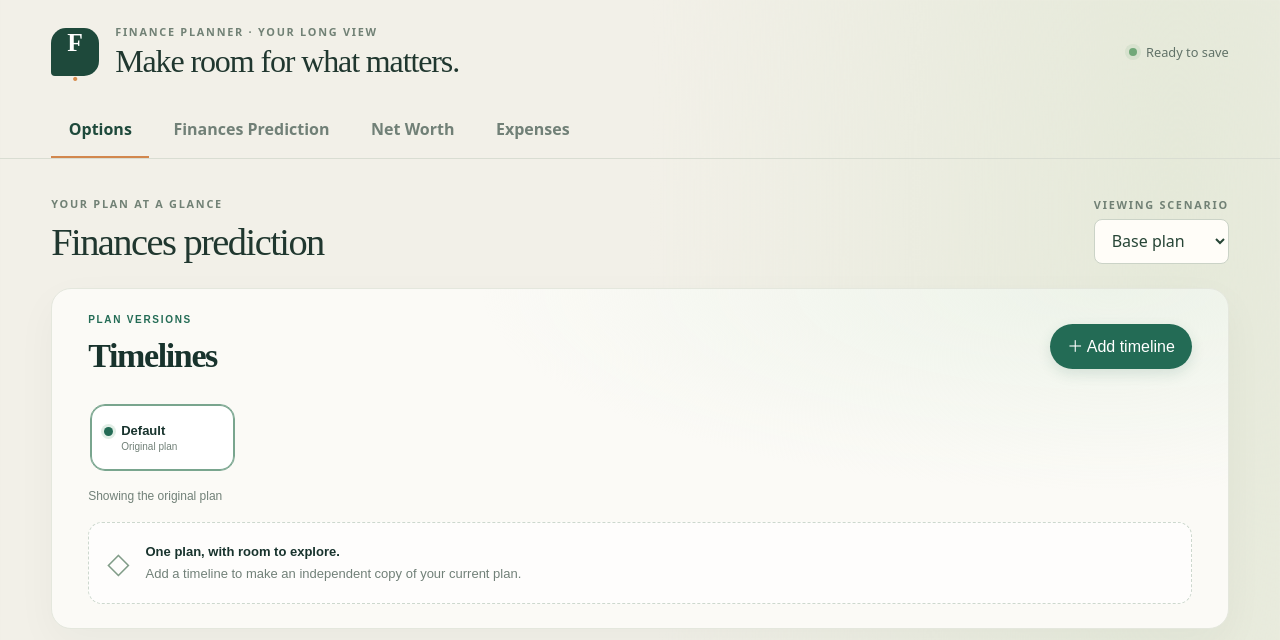
App integration (Phase 5 GUI acceptance) › does not apply global funding policy to an explicitly unresolved income purchase
The image size is (1280, 640).
Click the button "Finances Prediction".
click(251, 131)  # box [156,104,347,158]
(page scrolled)
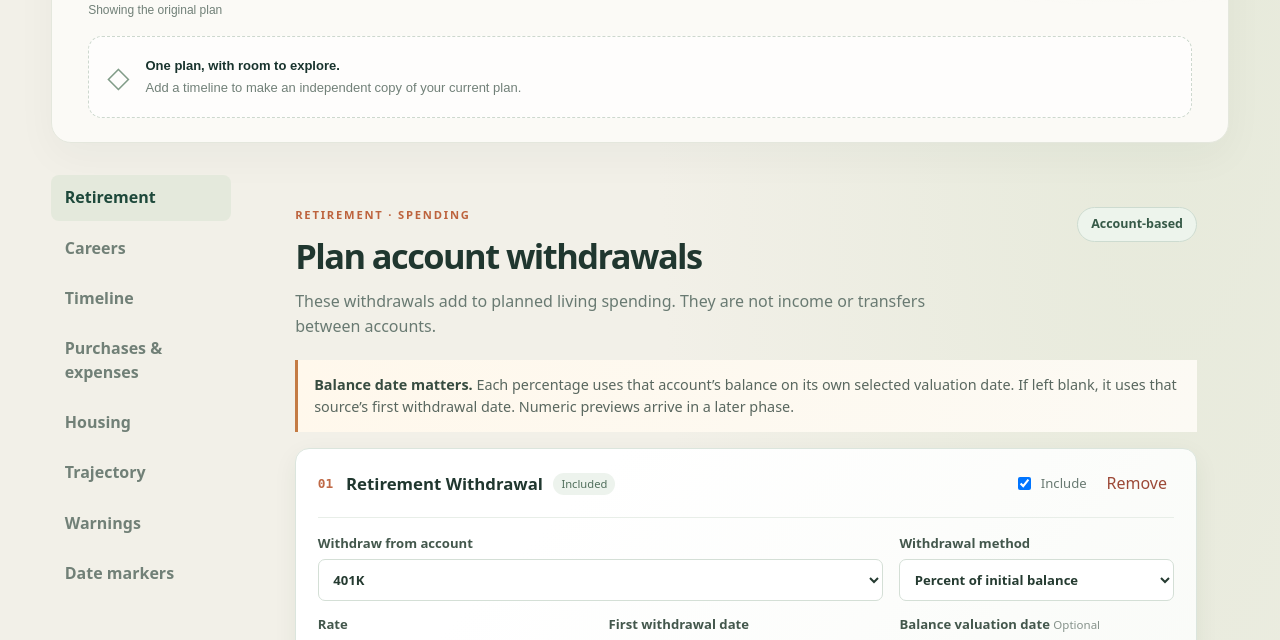
Click the button "Purchases & expenses".
click(141, 361)  # box [51,326,231,395]
(page scrolled)
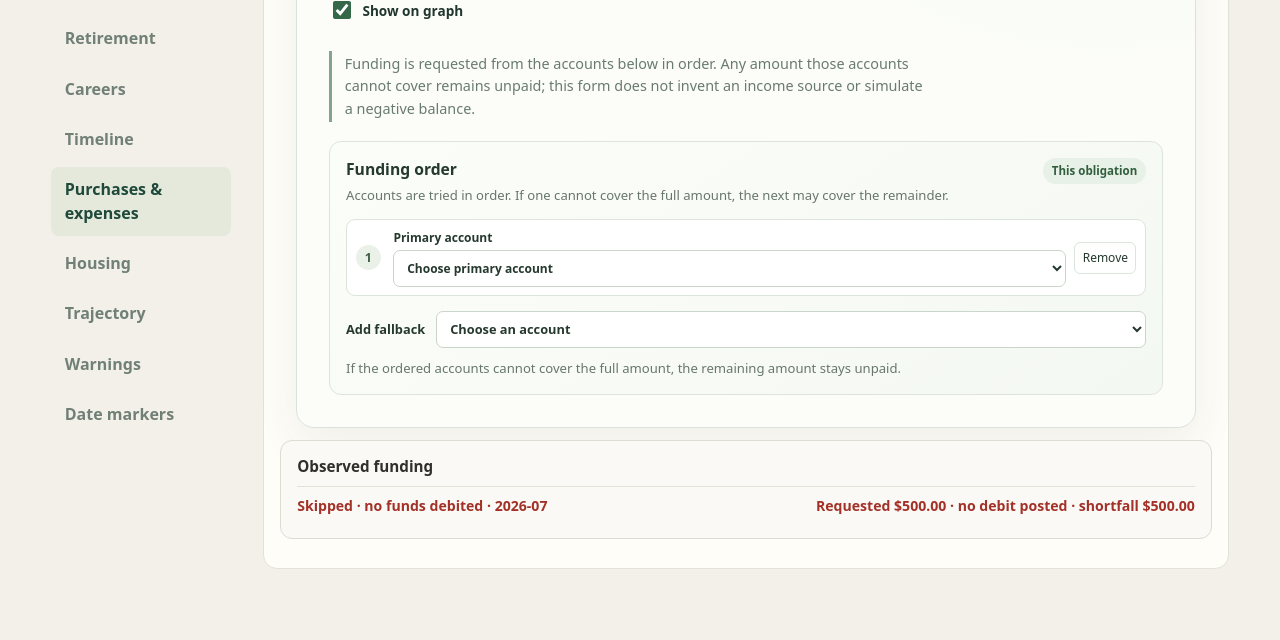
Click the heading that starts with "Skipped · no funds debited".
click(390, 505)  # box [297,496,1195,516]
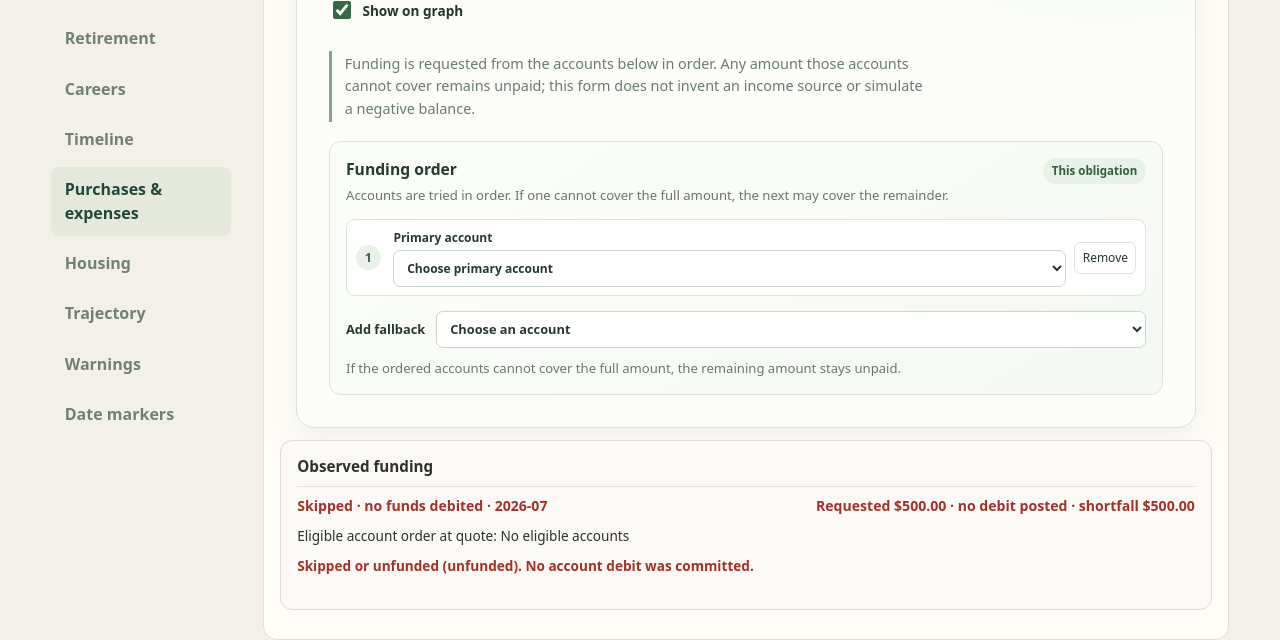
Expected: the element that starts with "Skipped · no funds debited" shows "Requested $500.00 · no debit posted · shortfall $500.00", [816,496,1195,515]
Expected: the element that starts with "Skipped · no funds debited" shows "No eligible accounts", [500,526,629,545]
Expected: the element that starts with "Skipped · no funds debited" shows "Skipped or unfunded", [297,556,447,576]
